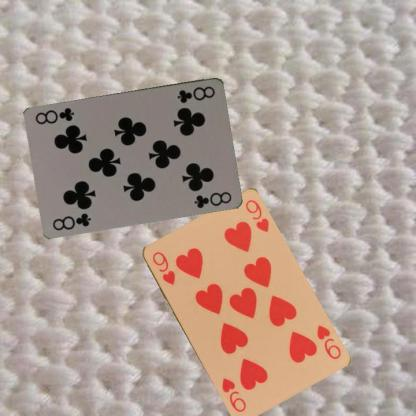8c: (50, 209, 92, 232), (174, 83, 216, 104)
9h: (314, 322, 342, 360), (149, 249, 176, 286)
